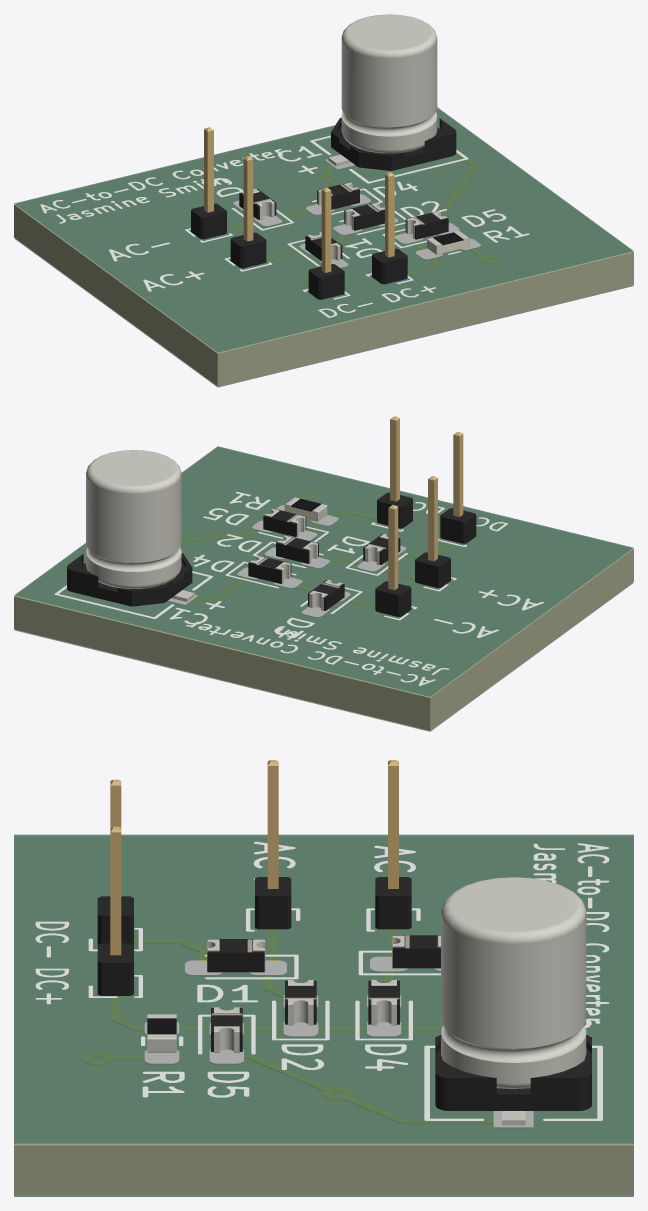
The model's file is ACtoDC3d.glb.
3 renders of one model, top to bottom at view 1: azimuth 30°, elevation 25°; view 2: azimuth 150°, elevation 25°; view 3: azimuth 270°, elevation 25°, orthographic. The views are drawn at different scales.
Parts seen in each view (by area): view 1: =>[0:1:1:12], =>[0:1:1:10], C1, =>[0:1:1:9], J4, J1, J3, J2, =>[0:1:1:7], =>[0:1:1:6], =>[0:1:1:11], D5 (+5 smaller); view 2: =>[0:1:1:12], =>[0:1:1:10], C1, =>[0:1:1:9], J4, J2, J1, =>[0:1:1:7], J3, =>[0:1:1:11], =>[0:1:1:6], D4 (+5 smaller); view 3: =>[0:1:1:12], =>[0:1:1:10], C1, =>[0:1:1:9], =>[0:1:1:7], =>[0:1:1:6], J1, J3, J2, D1, J4, D3 (+5 smaller).
Part boxes in pixels (<box>): =>[0:1:1:12]: <box>14,109,633,386</box>; =>[0:1:1:10]: <box>14,107,633,352</box>; C1: <box>328,14,456,170</box>; =>[0:1:1:9]: <box>40,135,529,317</box>; J4: <box>308,187,344,299</box>; J1: <box>230,156,266,268</box>; J3: <box>372,172,407,284</box>; J2: <box>191,127,226,239</box>; =>[0:1:1:7]: <box>205,159,480,299</box>; =>[0:1:1:6]: <box>227,153,499,282</box>; =>[0:1:1:11]: <box>14,238,633,387</box>; D5: <box>405,211,448,239</box>; =>[0:1:1:12]: <box>14,448,633,730</box>; =>[0:1:1:10]: <box>14,446,633,696</box>; C1: <box>67,450,194,606</box>; =>[0:1:1:9]: <box>54,492,543,685</box>; J4: <box>440,431,476,543</box>; J2: <box>375,505,411,616</box>; J1: <box>415,476,450,587</box>; =>[0:1:1:7]: <box>168,505,460,617</box>; J3: <box>377,416,412,528</box>; =>[0:1:1:11]: <box>14,582,633,731</box>; =>[0:1:1:6]: <box>181,491,454,607</box>; D4: <box>248,555,291,583</box>; =>[0:1:1:12]: <box>14,837,633,1195</box>; =>[0:1:1:10]: <box>14,834,633,1143</box>; C1: <box>435,877,591,1125</box>; =>[0:1:1:9]: <box>35,841,609,1120</box>; =>[0:1:1:7]: <box>144,957,533,1128</box>; =>[0:1:1:6]: <box>83,930,492,1123</box>; J1: <box>255,760,291,929</box>; J3: <box>97,826,133,995</box>; J2: <box>375,760,411,929</box>; D1: <box>207,939,265,972</box>; J4: <box>97,779,133,944</box>; D3: <box>392,935,440,968</box>.
Bounding box in the file's own units: 0.0201 × 0.0084 × 0.017.
